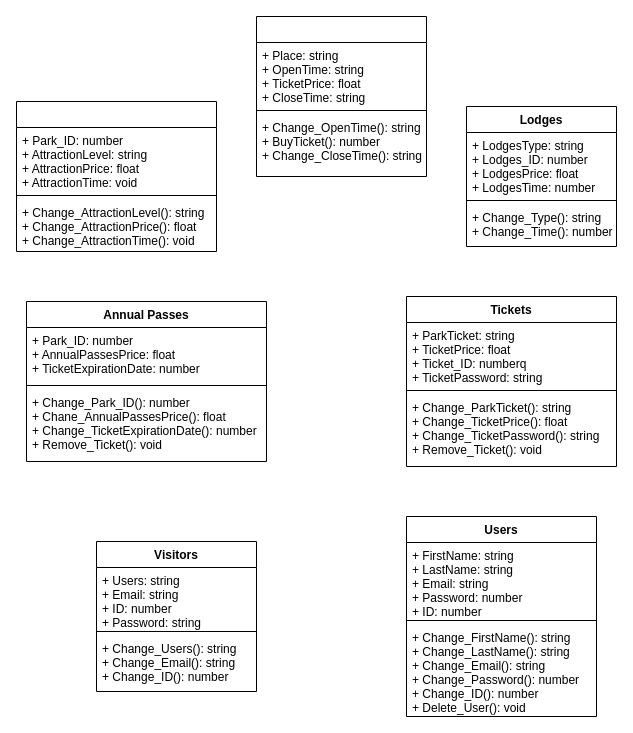
The diagram is 633 pixels wide and 733 high, and some of its shapes have lost their labels. The box of each missing label's shape, as (x1, y1, x2, y2) in pixels:
Multiple Parks: (256, 16, 426, 176)
Rangers per park: (16, 100, 216, 252)
